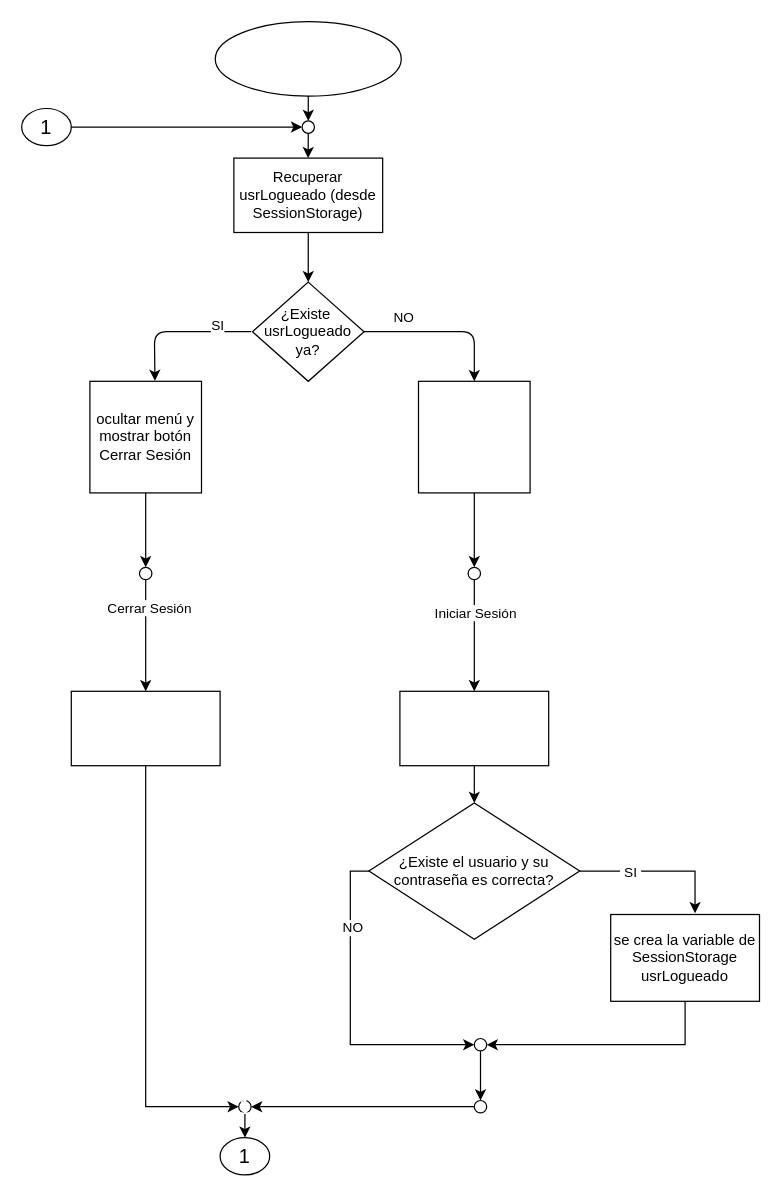
The diagram is 781 pixels wide and 1197 high, and some of its shapes have lost their labels. Here are the shapes that lost their labels. From the top down, the box of each, then its label:
(214, 20, 401, 96): cargar inicio_de_sesion.html
(417, 380, 530, 493): mostrar menú e Iniciar Sesión y ocultar botón Desconectar
(70, 690, 220, 766): se eliminan variables de SessionStorage
(399, 690, 549, 766): Se carga el archivo XML y se comprueba
